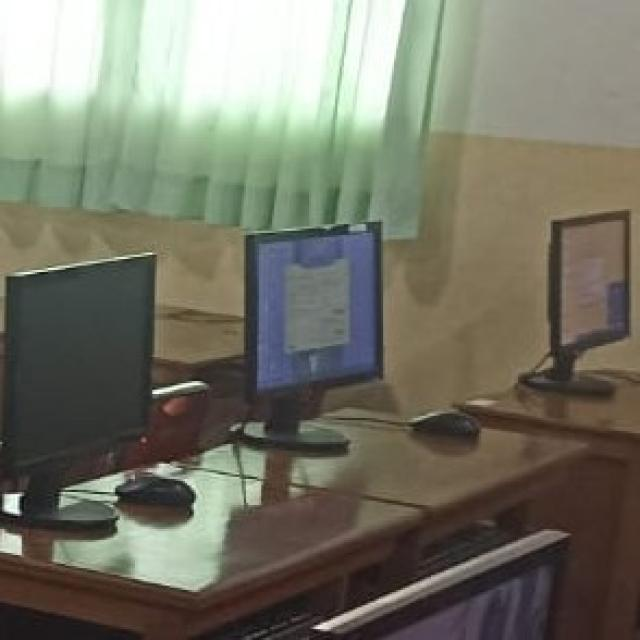offscreen: (4, 254, 154, 464)
onscreen: (245, 223, 381, 396), (549, 211, 629, 352)
